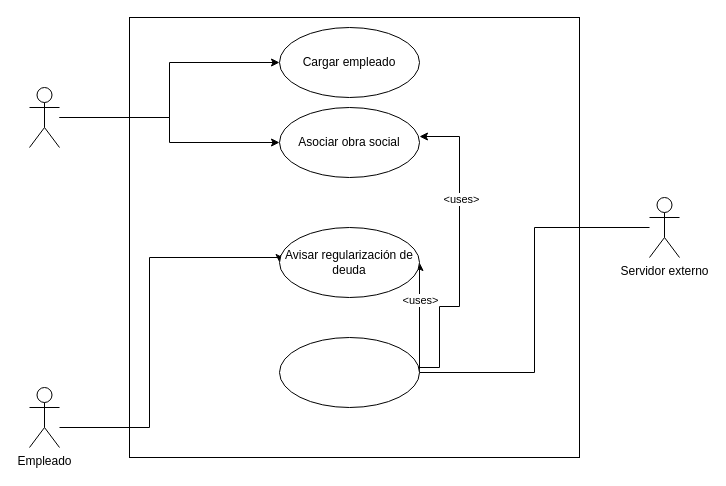
This 726x486 diagram has some shape labels left out. The centre of each missing label's shape, as x and y in pixels:
"Secretaria" goes at (x=44, y=117).
"Verificar morosidad" goes at (x=349, y=372).
